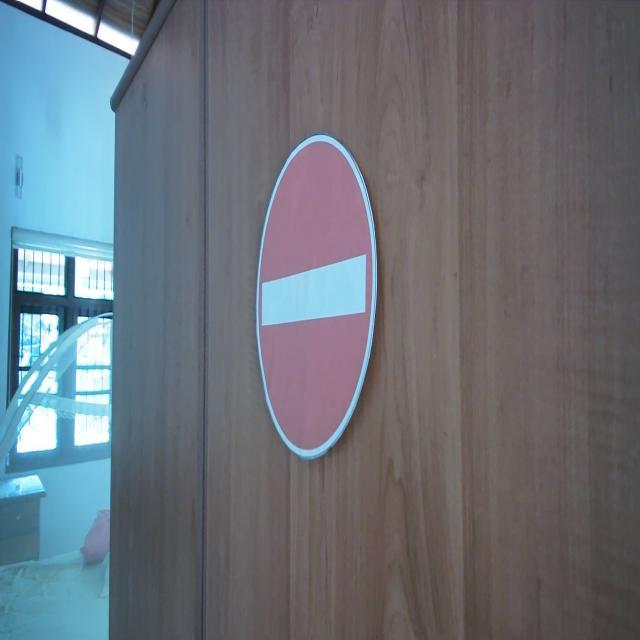no_entry: (254, 132, 380, 462)
